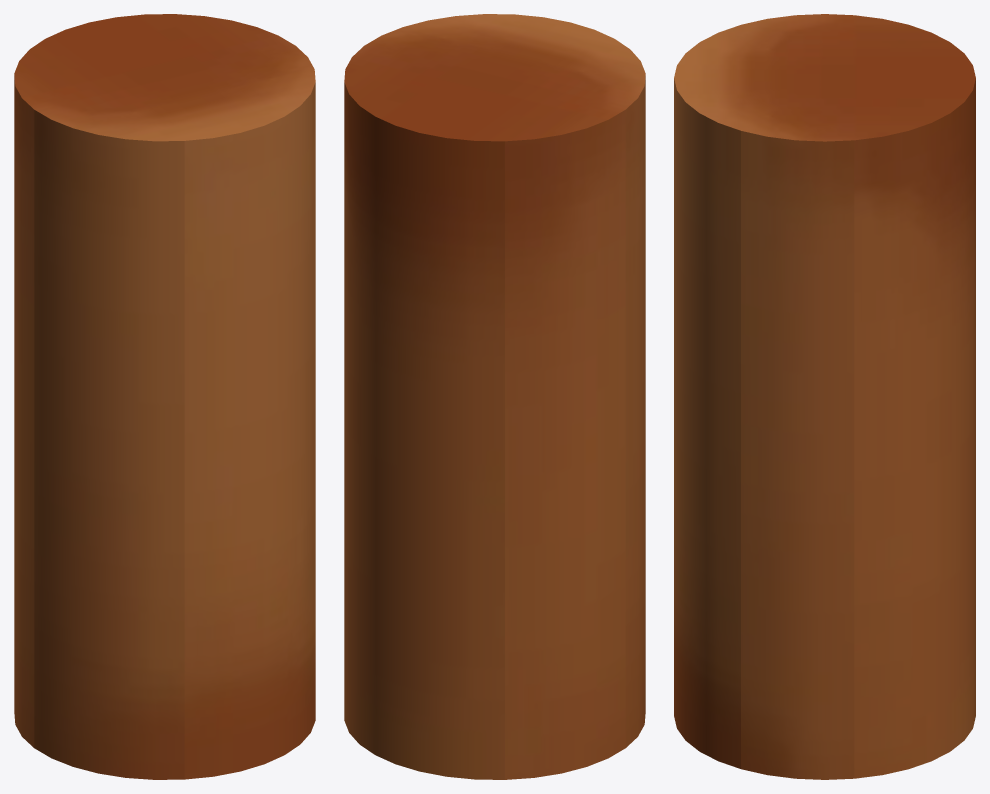
Rendered from joystick__joystick_stem.glb.
3 renders of one model, left to right at view 1: azimuth 30°, elevation 25°; view 2: azimuth 150°, elevation 25°; view 3: azimuth 270°, elevation 25°, orthographic.
Visible parts, largest first — view 1: geometry_0; view 2: geometry_0; view 3: geometry_0.
Boxes of the visible parts, x1,y1,x2,y2 form: geometry_0: (14,14,315,779); geometry_0: (344,14,645,779); geometry_0: (674,14,975,779).
Size of the model in its own units: 0.006 by 0.014 by 0.006.
Materials: 1 (1 with a texture image).
